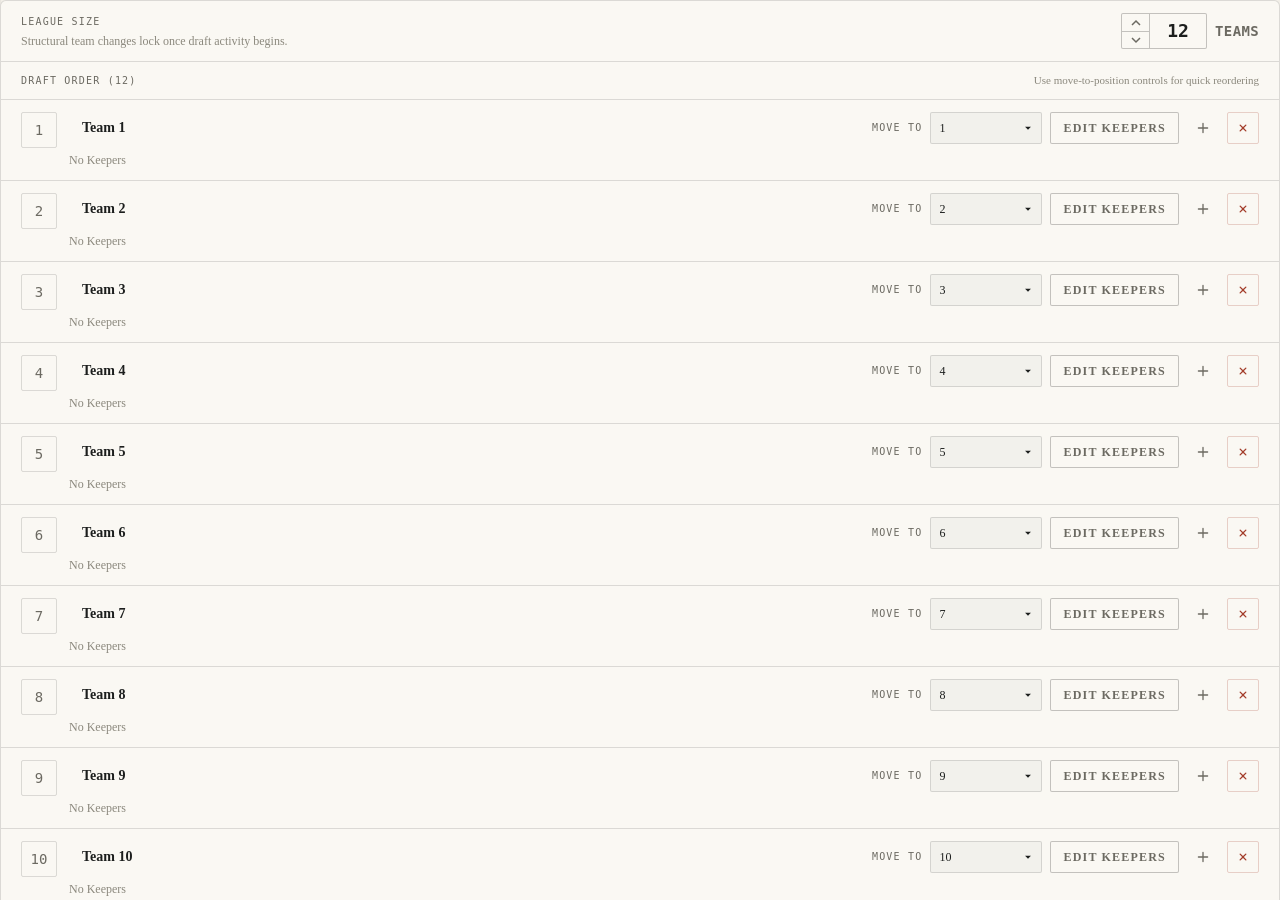
settings sections › expands a team to reveal keeper controls
Click the button with aria-label "Show keepers for Team 1": point(1115, 128) [1050,112,1179,144]
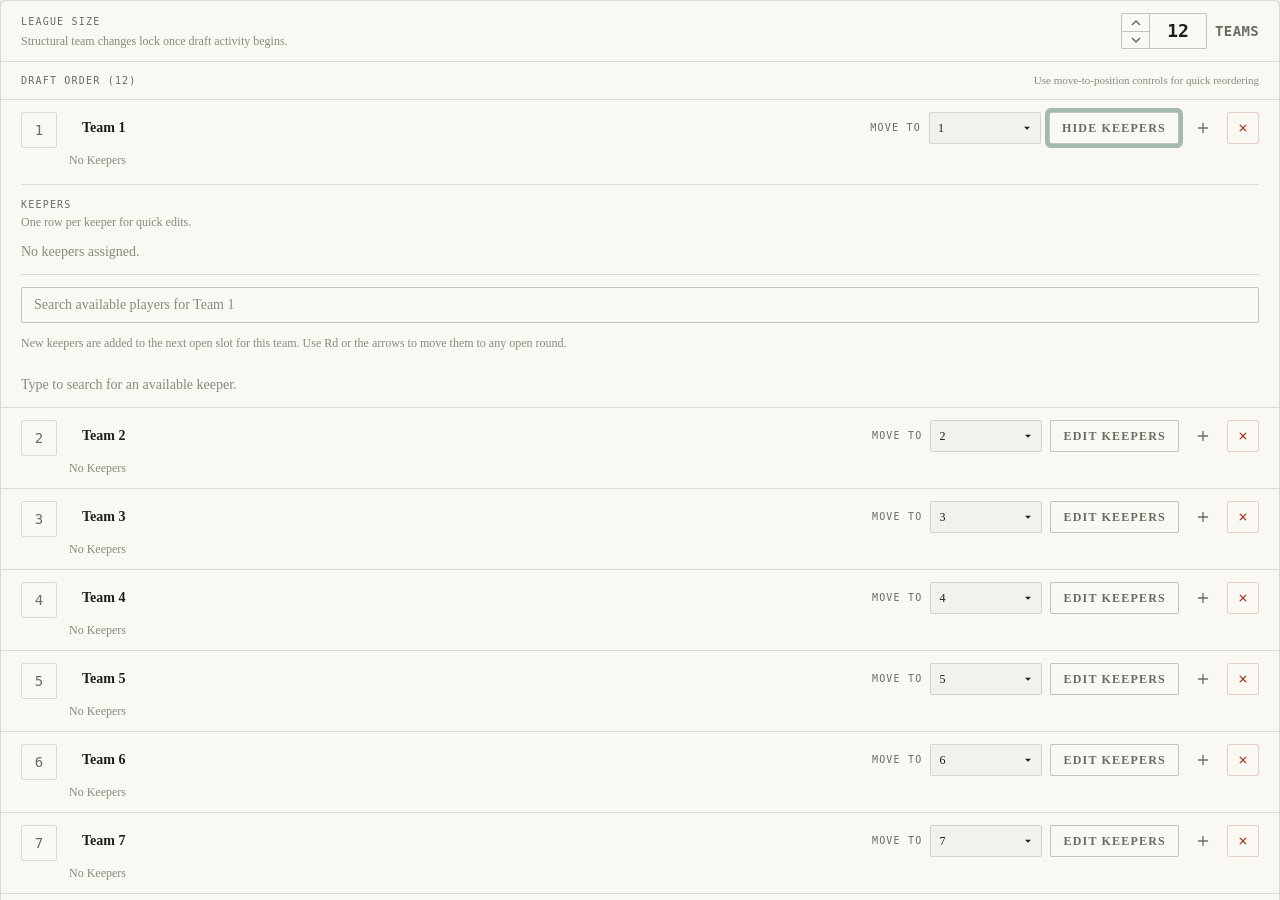
Now the field named "Search keepers for Team 1" is shown, box [21,286,1259,322]
